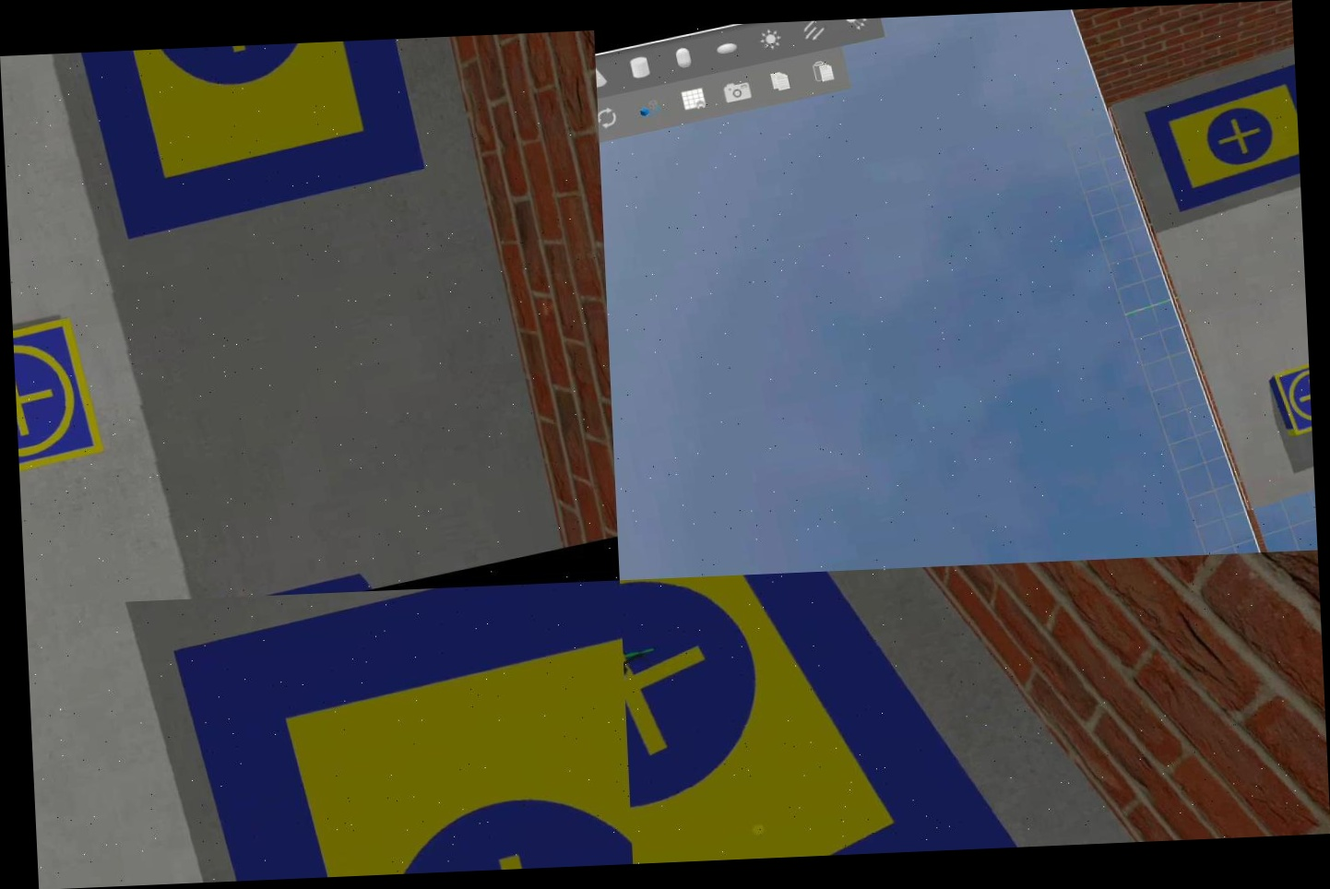large_base: (165, 580, 633, 883), (620, 562, 1057, 863), (60, 38, 432, 242), (1137, 61, 1300, 213)
small_base: (12, 314, 110, 485), (1270, 356, 1312, 439)
